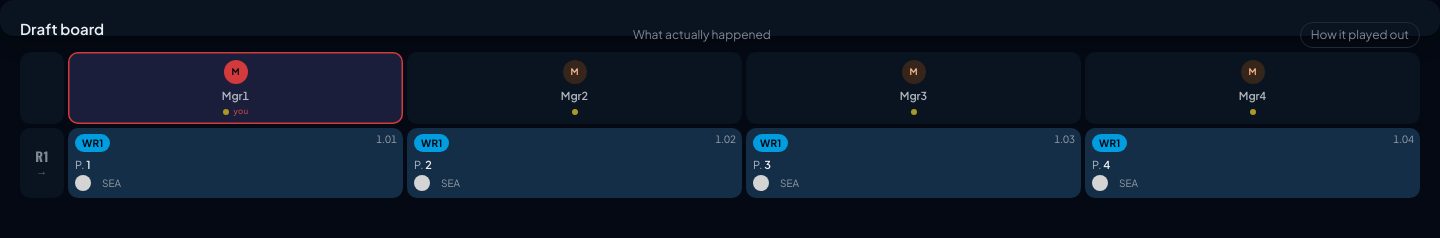
it: CompletedDraftBoard how it played out › unavailable shows the reason sentence, no strip, and no deltas
Click the button "How it played out". click: (1360, 35)
box: [1300,22,1420,48]
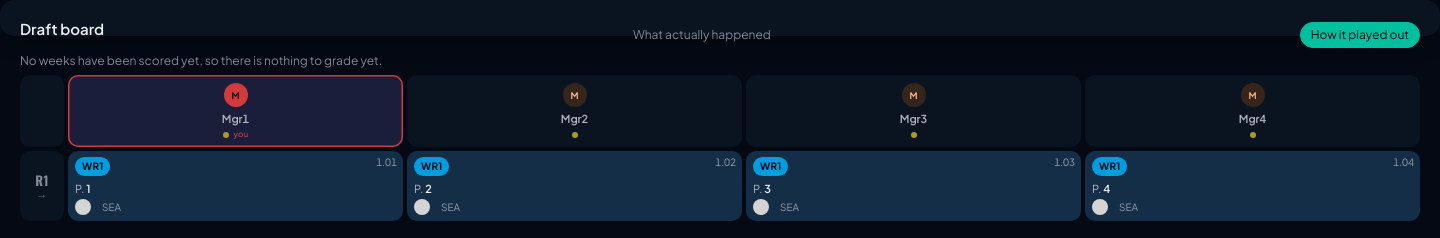
Expected: the text "No weeks have been scored yet" is shown, [20,53,382,68]
